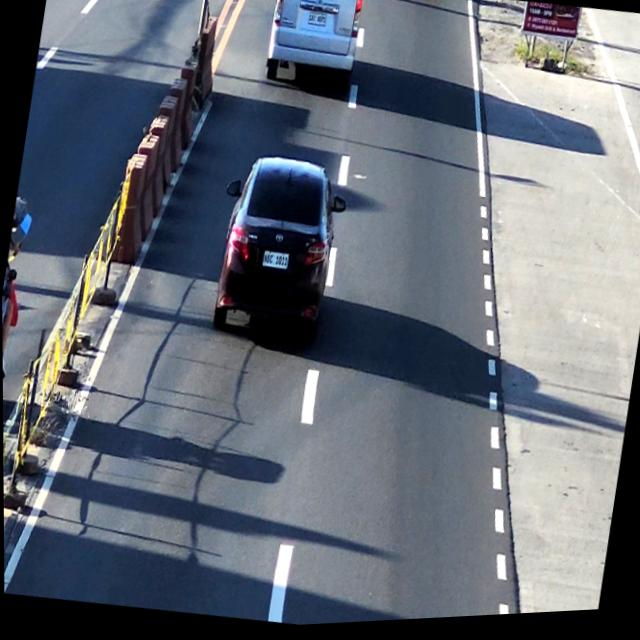Car: (209, 153, 348, 348), (258, 0, 366, 105)
License-Plate: (258, 247, 292, 277), (306, 12, 329, 30)
